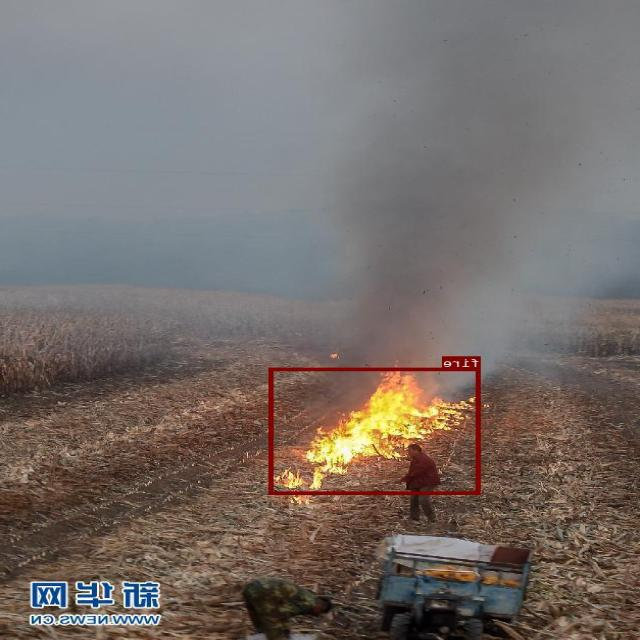fire: (270, 368, 481, 493)
